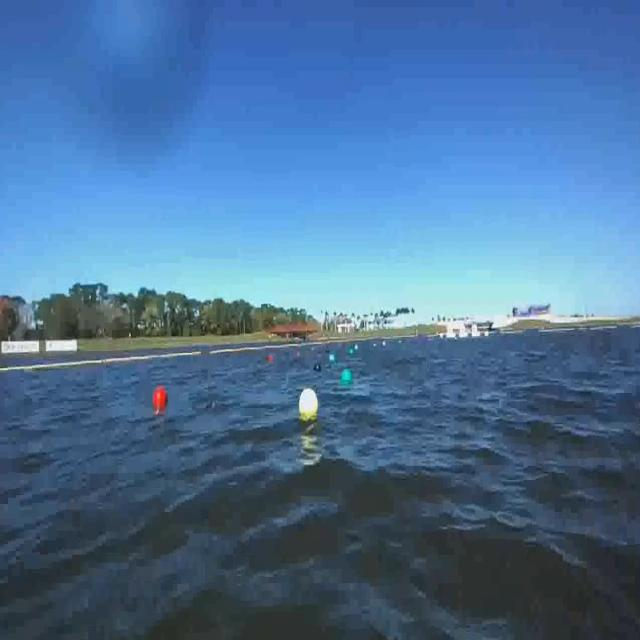black-buoy: (315, 361, 322, 372)
green-buoy: (342, 369, 354, 387)
red-buoy: (153, 386, 168, 408)
yellow-buoy: (300, 389, 320, 422)
